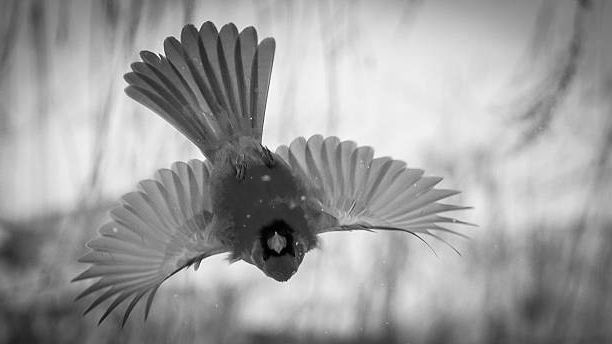Bird: (64, 18, 480, 331)
